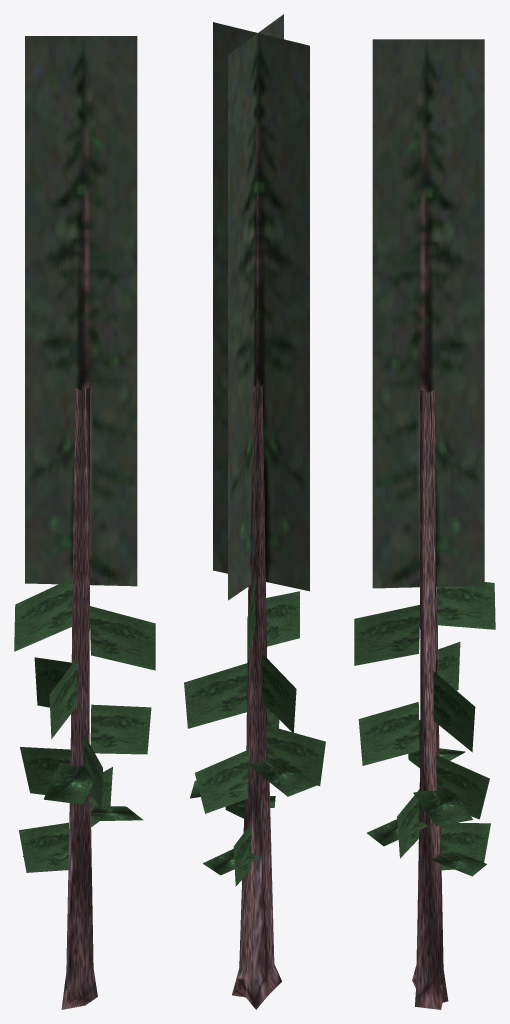
File: frst_conf_redwood_giant_l2.fbx
3 views of the same model, side by side, from view 1: azimuth 90°, elevation 25°; view 2: azimuth 150°, elevation 25°; view 3: azimuth 270°, elevation 25° (orthographic).
Parts seen in each view (by area): view 1: mesh_node; view 2: mesh_node; view 3: mesh_node.
Part boxes in pixels (x1,y1,x2,y2): mesh_node: (14,36,155,1009); mesh_node: (184,14,325,1009); mesh_node: (354,39,495,1009).
Bounding box in the file's own units: 24.44 × 190 × 25.21.
